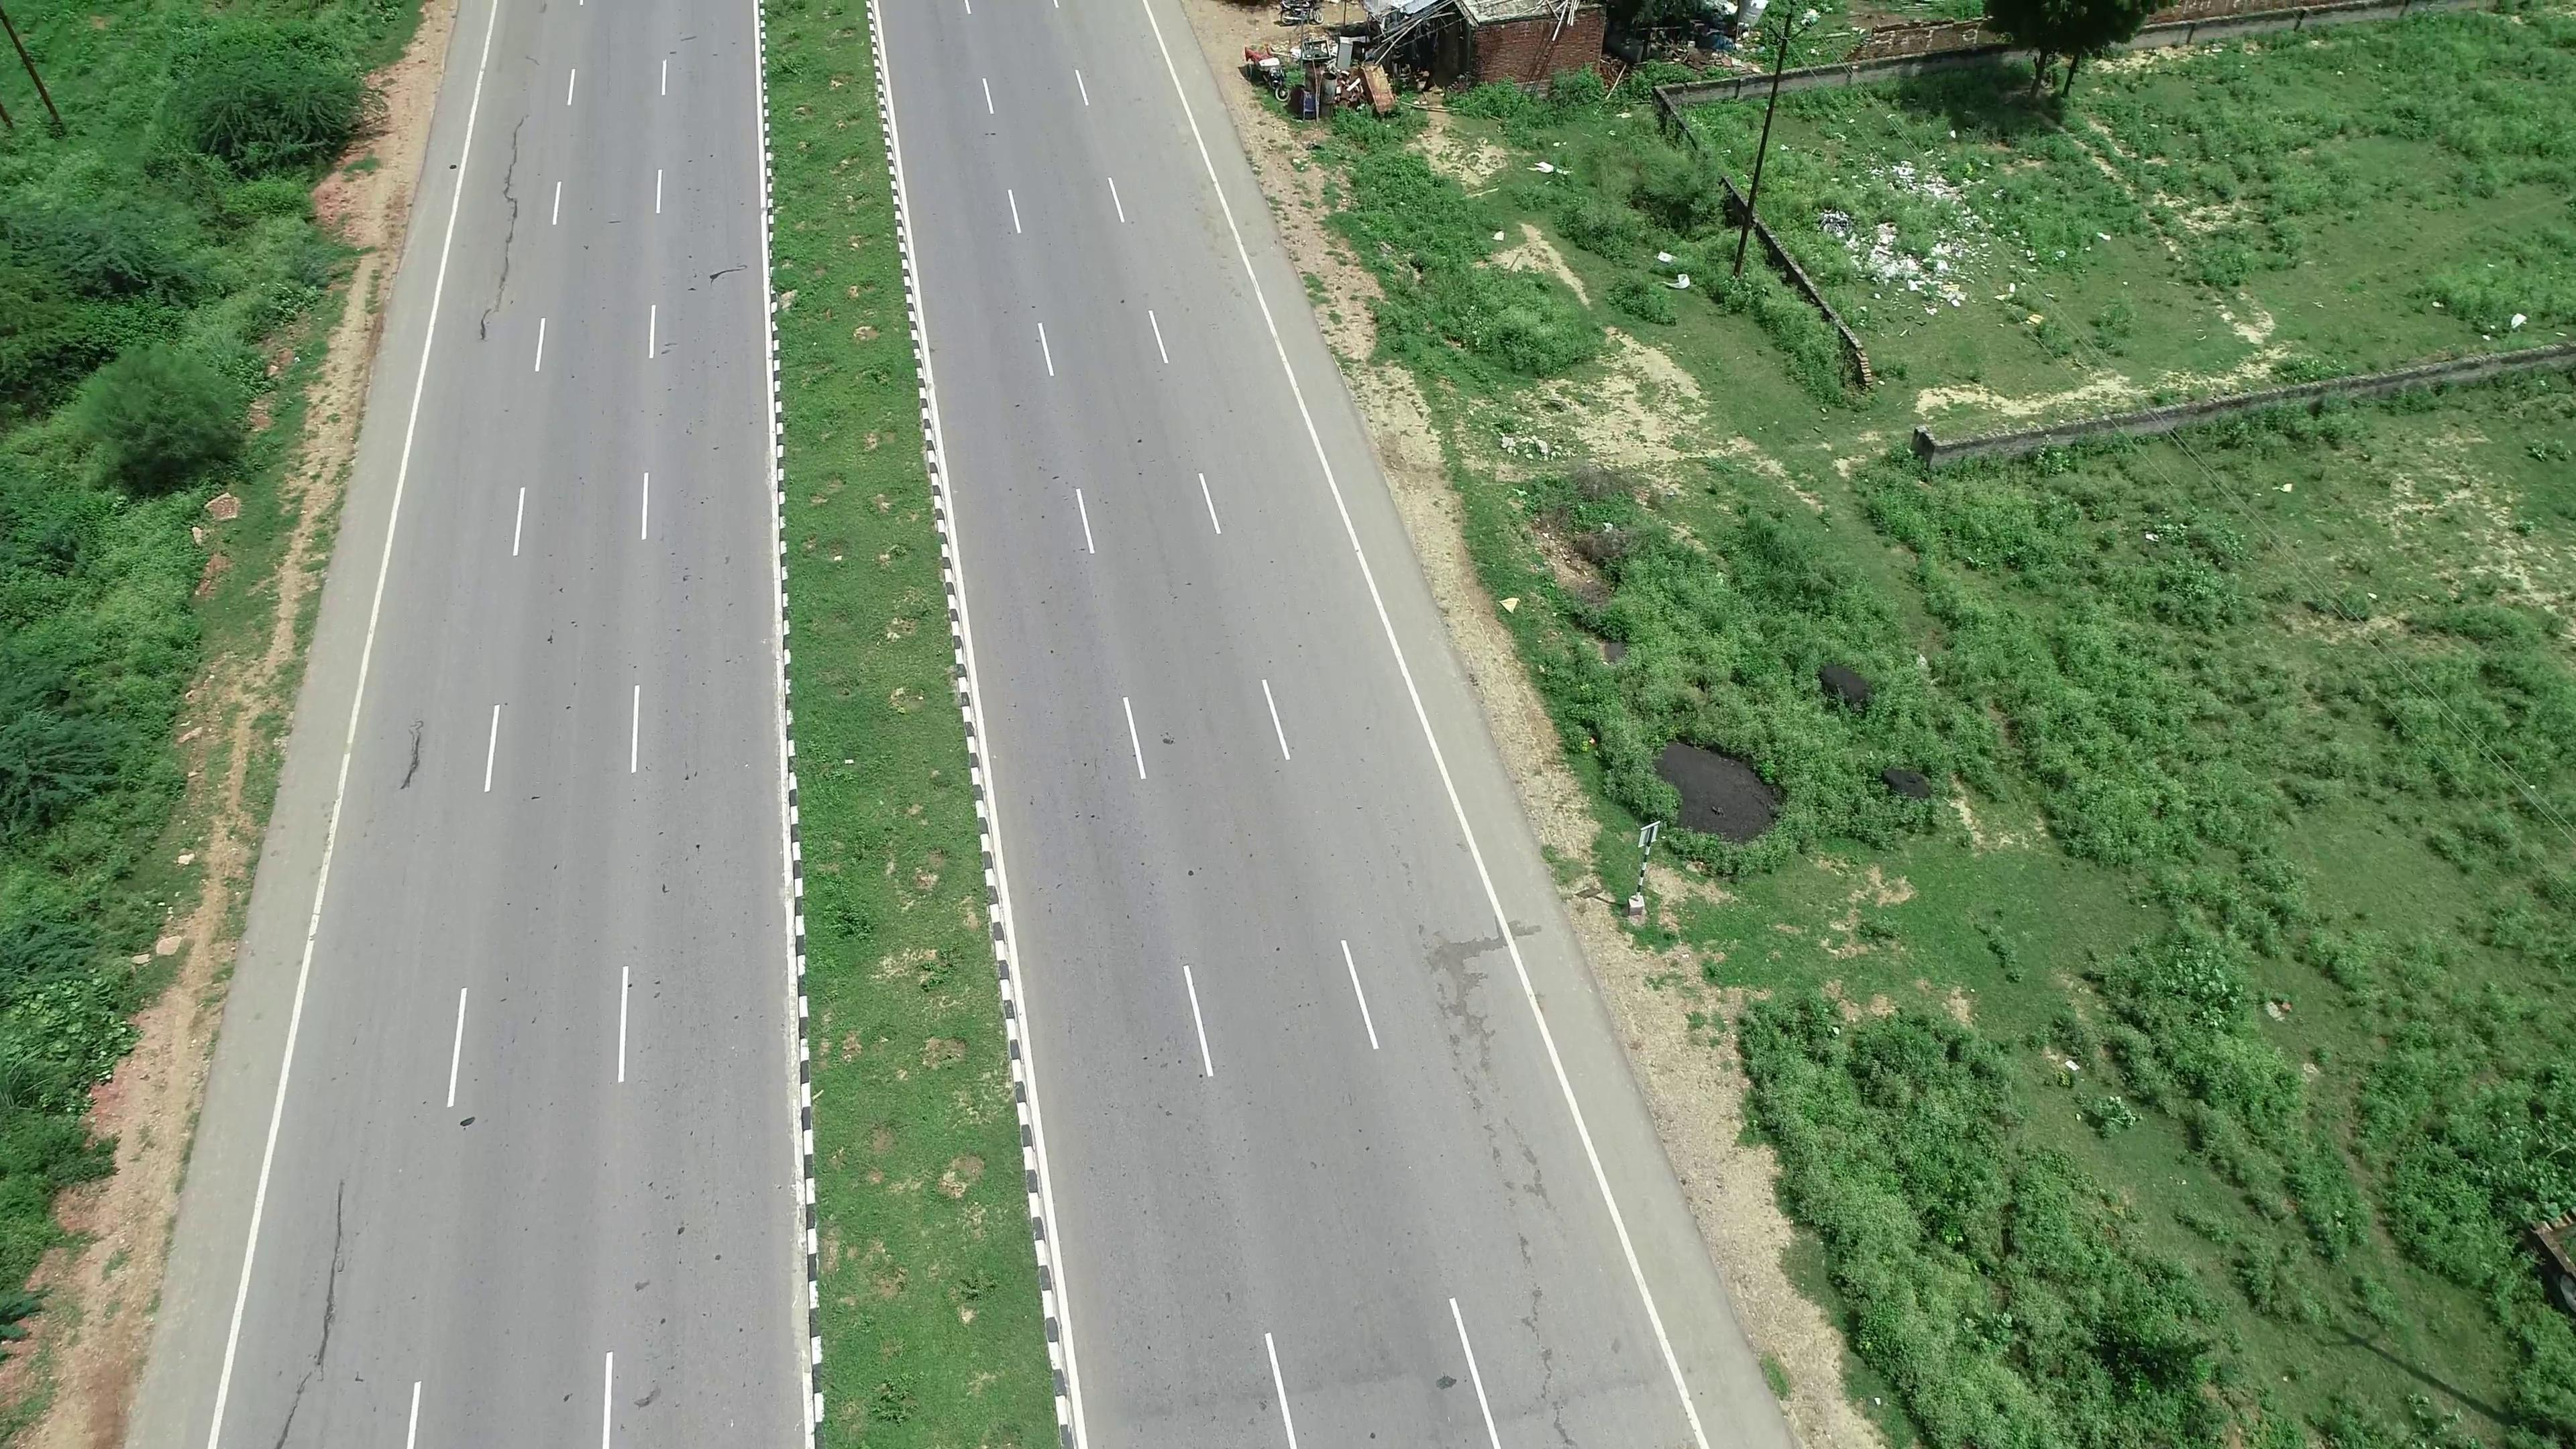Longitudinal_cracks: (449, 126, 550, 356)
